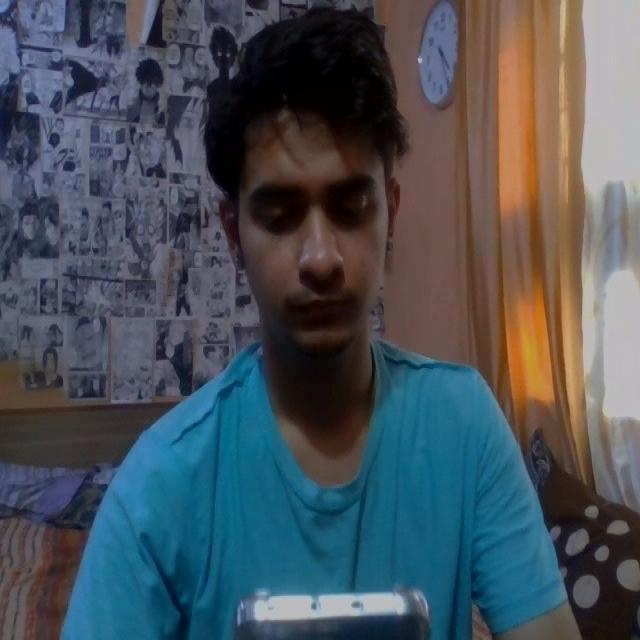phone: (232, 585, 447, 640)
using-phone: (71, 17, 584, 640)
